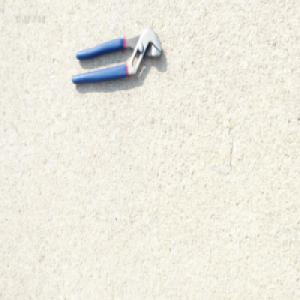Pliers: (71, 26, 164, 88)
